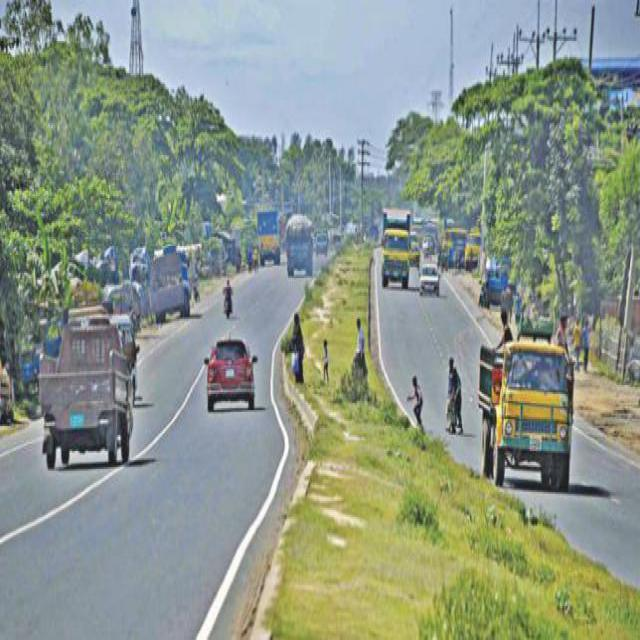bike: (223, 288, 231, 315)
vehicle: (478, 338, 574, 486), (38, 324, 133, 468), (205, 335, 254, 407), (148, 247, 189, 324), (381, 205, 410, 284), (285, 211, 313, 275), (258, 208, 281, 263), (419, 263, 440, 297)
